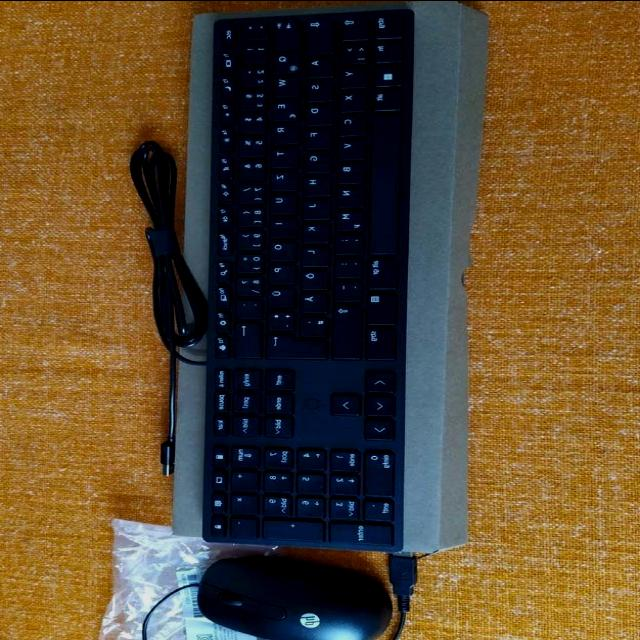0: (235, 253, 265, 273)
1: (236, 42, 266, 63)
2: (237, 65, 267, 87)
3: (236, 89, 266, 111)
4: (235, 114, 265, 135)
5: (235, 137, 265, 159)
6: (235, 159, 263, 181)
7: (234, 183, 264, 203)
8: (234, 207, 264, 227)
9: (234, 230, 264, 251)
a: (302, 54, 332, 76)
accent: (233, 298, 263, 318)
ae: (298, 291, 326, 311)
alt-left: (368, 86, 398, 108)
altgr-right: (363, 254, 395, 286)
b: (332, 160, 362, 181)
c: (334, 111, 364, 133)
caret: (238, 18, 266, 40)
comma: (331, 232, 361, 252)
d: (302, 102, 330, 123)
del: (231, 320, 259, 358)
e: (267, 97, 297, 118)
enter: (262, 331, 324, 359)
f: (301, 125, 329, 146)
g: (302, 149, 330, 170)
h: (300, 173, 328, 193)
hash: (297, 314, 325, 334)
i: (265, 215, 295, 235)
j: (300, 197, 328, 217)
k: (300, 220, 328, 241)
keyboard: (196, 2, 416, 556)
l: (300, 244, 328, 263)
less: (335, 40, 367, 62)
m: (331, 207, 361, 228)
minus: (329, 278, 359, 298)
n: (332, 183, 362, 205)
o: (265, 238, 295, 258)
oe: (300, 267, 326, 287)
p: (264, 261, 294, 282)
plus: (263, 308, 293, 328)
point: (329, 255, 359, 275)
q: (269, 48, 297, 72)
r: (267, 120, 297, 142)
s: (302, 77, 332, 99)
shift-left: (338, 10, 366, 38)
shift-lock: (303, 13, 333, 51)
shift-right: (328, 302, 358, 356)
space: (169, 352, 201, 538), (366, 112, 398, 252)
ss: (235, 275, 261, 294)
strg-left: (370, 7, 402, 37)
strg-right: (362, 325, 394, 359)
t: (266, 144, 296, 165)
tab: (269, 17, 297, 47)
u: (266, 191, 296, 212)
ue: (263, 284, 293, 305)
v: (333, 137, 363, 157)
w: (268, 73, 298, 95)
x: (334, 88, 364, 110)
y: (335, 64, 365, 86)
z: (266, 168, 296, 189)
